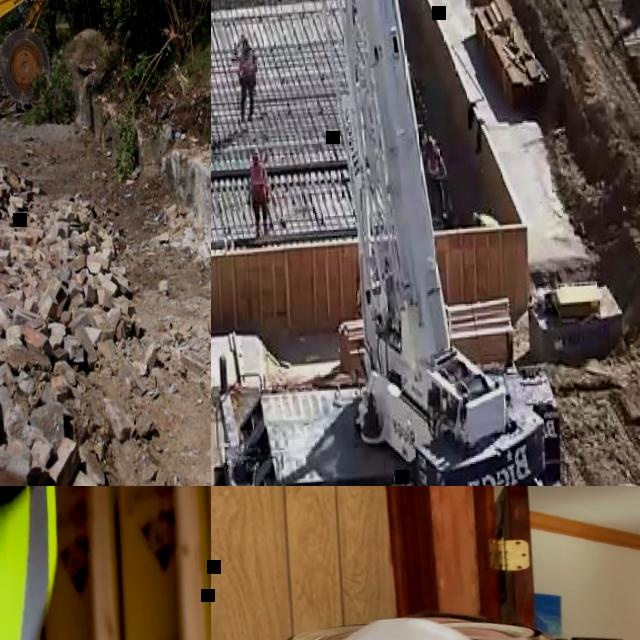Hardhat: (241, 34, 251, 47), (427, 136, 436, 148), (252, 147, 260, 157)
Mask: (256, 610, 563, 640)
NO-Hardhat: (523, 610, 640, 640)
Person: (0, 486, 211, 640), (211, 598, 640, 640), (423, 134, 450, 223), (247, 146, 271, 237), (236, 32, 260, 121)
Safety Vest: (0, 486, 73, 640), (250, 165, 267, 191), (239, 51, 254, 76), (427, 148, 440, 175)
machinery: (211, 0, 583, 486), (0, 0, 59, 127)
